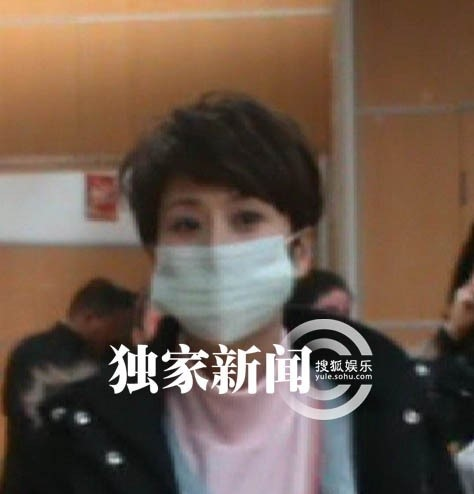face_mask: (152, 166, 291, 340), (86, 314, 123, 349)
